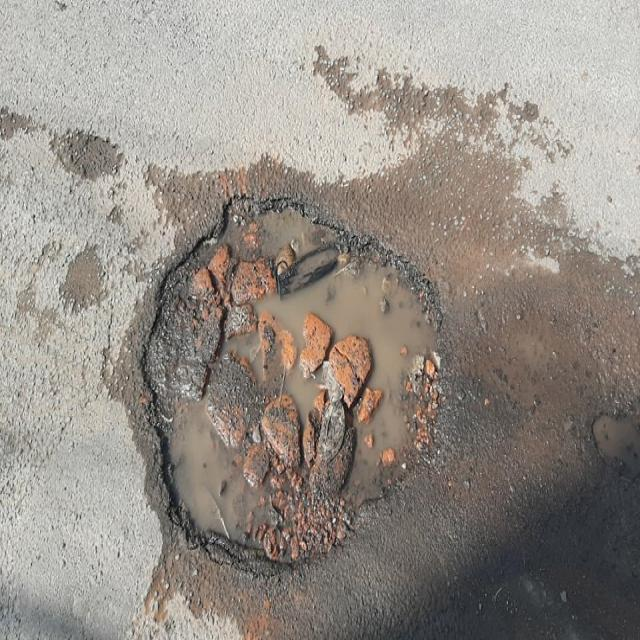pothole: (108, 192, 481, 572)
